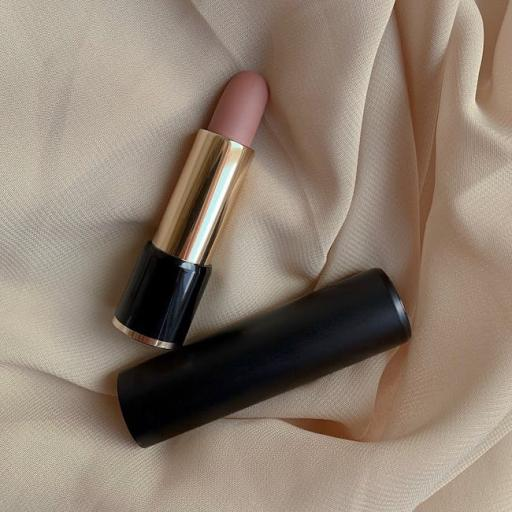lipstick: (113, 71, 267, 348)
